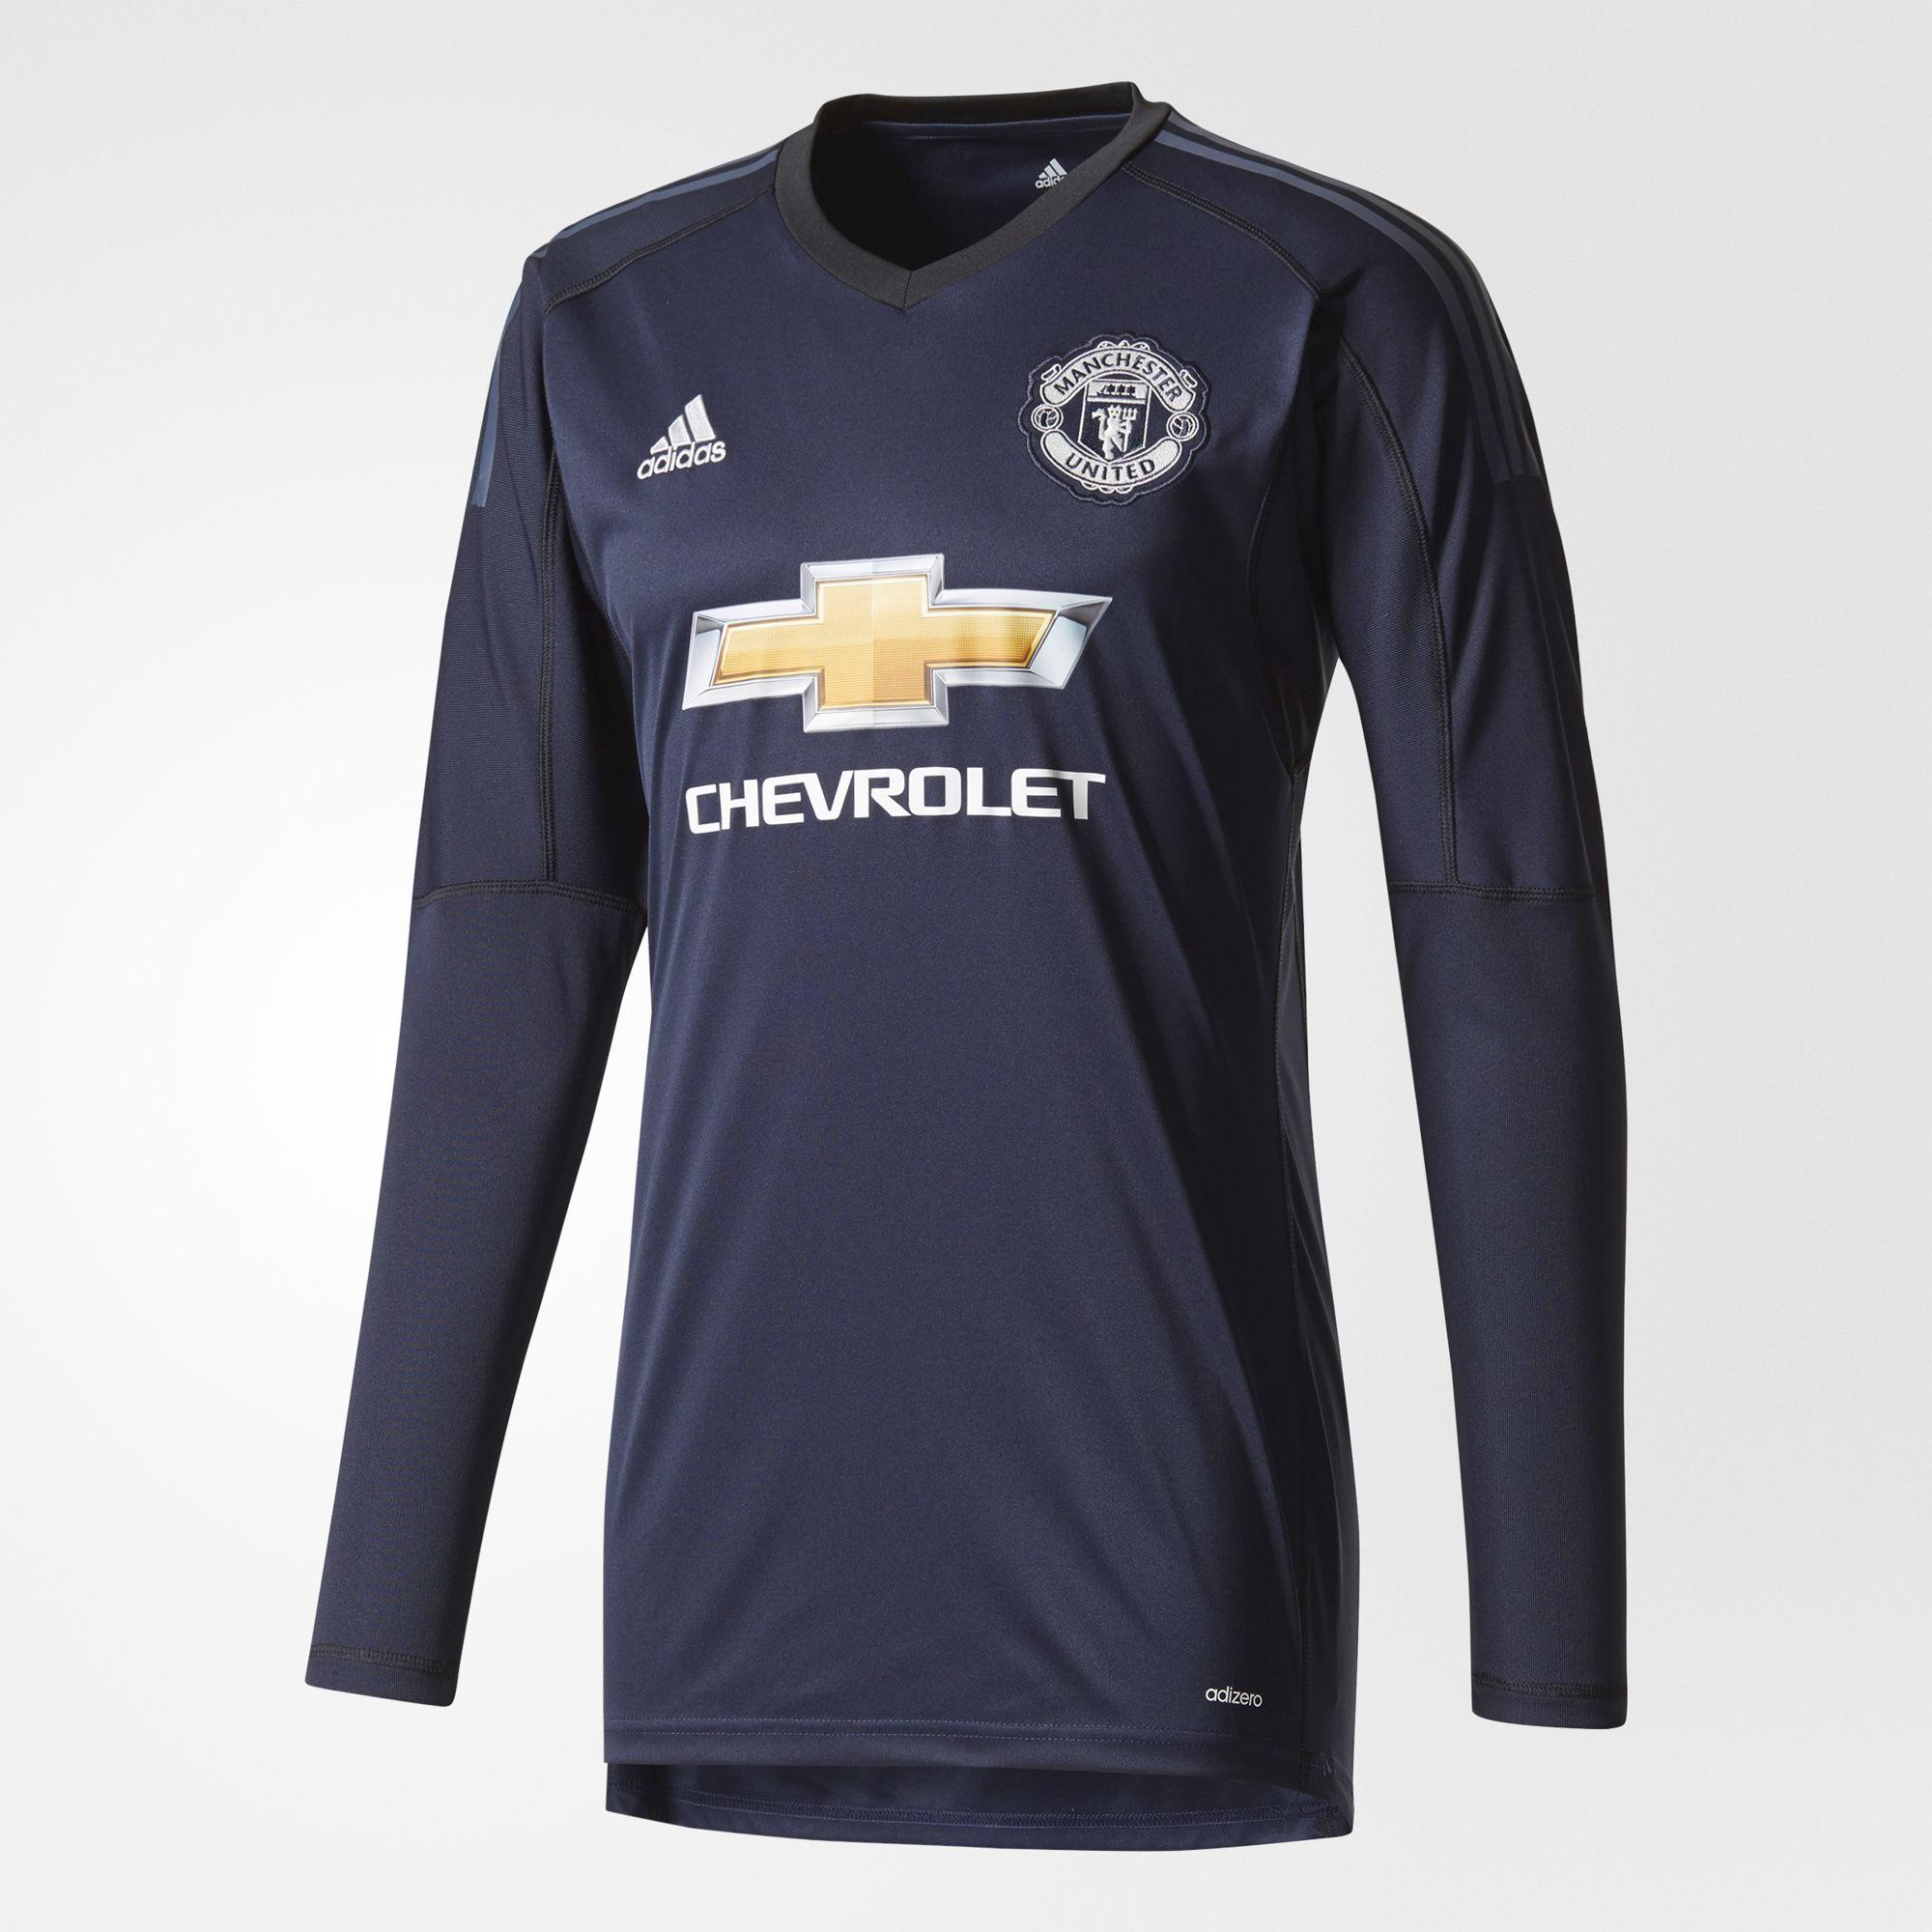teeshirt: (274, 85, 1686, 1932)
